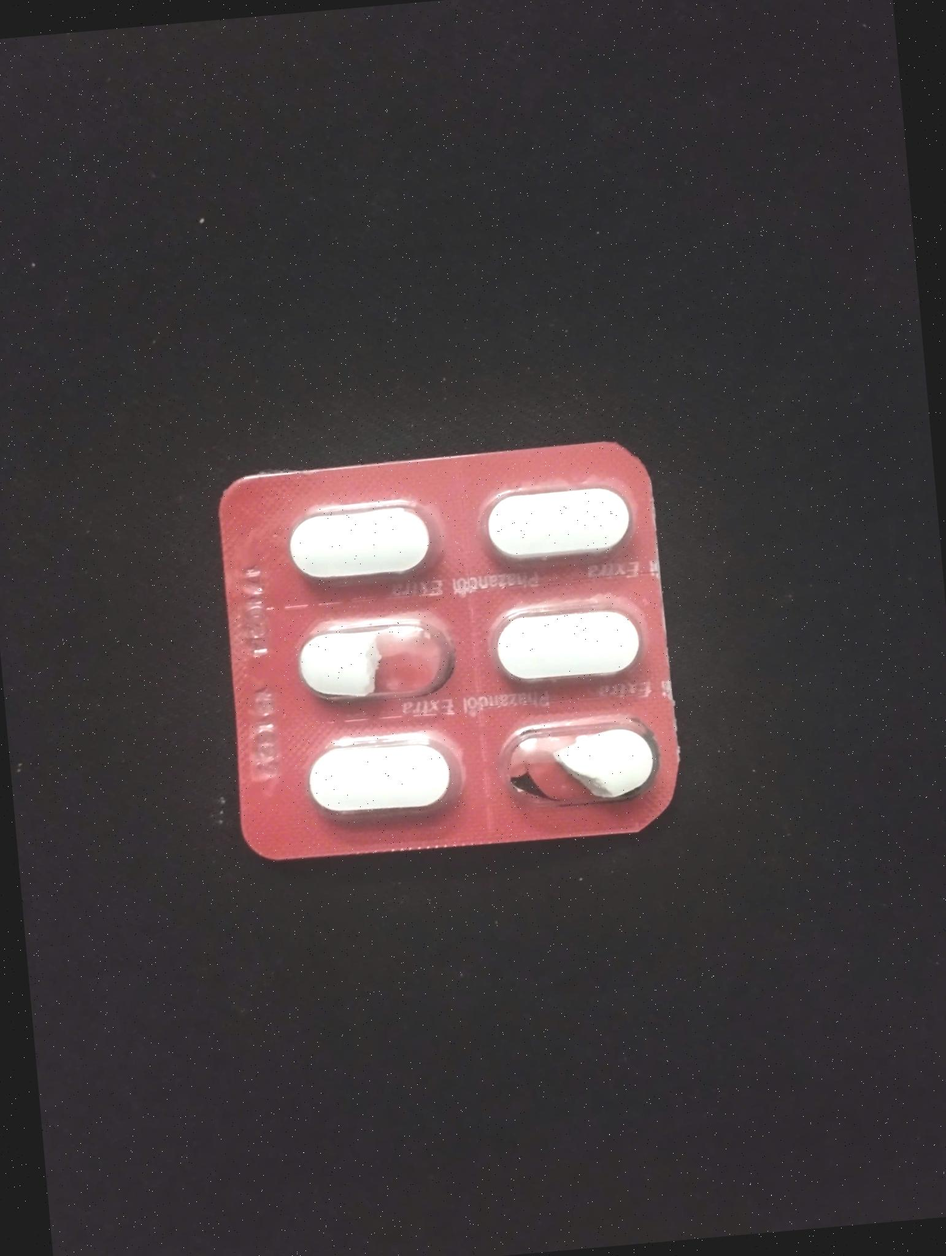Full: (299, 728, 471, 824), (490, 597, 652, 697), (281, 497, 441, 597), (479, 475, 639, 573)
Partial: (496, 710, 674, 819), (291, 618, 461, 711)
